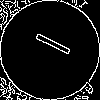I: (25, 25, 72, 58)
